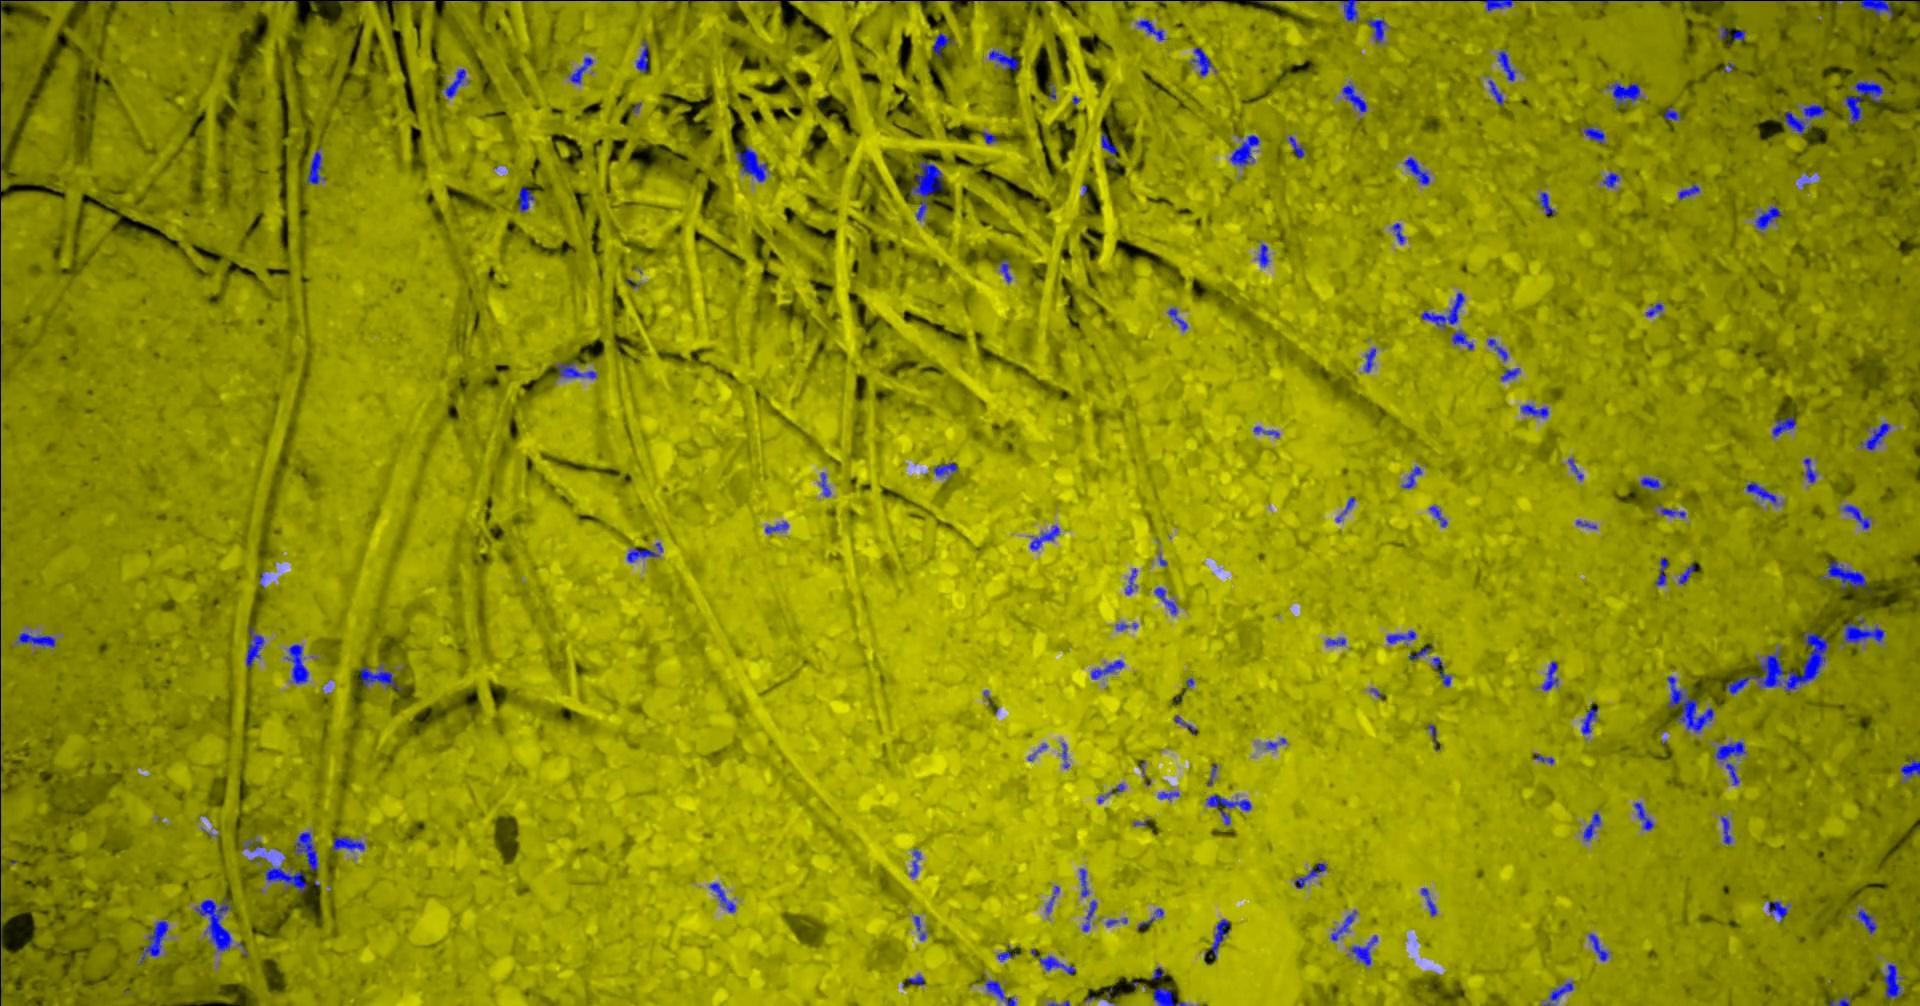ant: (1666, 674, 1713, 732), (194, 897, 231, 951), (909, 160, 942, 220), (1843, 80, 1883, 124), (1420, 292, 1464, 328), (1206, 794, 1251, 824), (1716, 741, 1746, 784), (1780, 104, 1825, 133), (138, 920, 168, 964), (735, 145, 768, 180), (1827, 560, 1867, 589), (1843, 617, 1884, 644), (359, 664, 401, 691), (264, 865, 306, 890), (284, 643, 309, 683), (1229, 133, 1258, 166), (295, 831, 317, 870), (1349, 935, 1377, 965), (439, 69, 469, 97), (1860, 422, 1890, 450), (709, 882, 735, 912), (1330, 909, 1356, 940), (1294, 862, 1326, 888), (245, 625, 264, 667), (1029, 525, 1059, 550), (1037, 955, 1076, 976), (984, 979, 1015, 1005), (1542, 981, 1573, 1005), (1608, 83, 1641, 105), (1743, 481, 1777, 504), (1881, 963, 1901, 998), (1342, 83, 1368, 111), (1211, 920, 1229, 959), (1403, 158, 1429, 184), (557, 361, 596, 379), (626, 542, 662, 561), (1152, 986, 1187, 1005), (1090, 659, 1123, 680), (988, 50, 1018, 71), (1755, 205, 1782, 229), (1843, 504, 1869, 528), (306, 149, 324, 184), (569, 56, 592, 83), (1857, 0, 1893, 17), (15, 631, 55, 647), (1135, 19, 1164, 39), (931, 32, 952, 58), (1154, 587, 1176, 614), (1191, 47, 1211, 75), (1633, 801, 1653, 829), (1497, 50, 1515, 81), (331, 835, 364, 851), (1097, 782, 1124, 803), (1137, 908, 1163, 929), (1589, 934, 1608, 962), (1581, 702, 1597, 734), (1771, 415, 1796, 437), (1432, 657, 1450, 686), (1335, 495, 1355, 521), (1366, 17, 1385, 42), (1583, 810, 1600, 840), (1420, 887, 1436, 916), (517, 185, 535, 212), (1451, 329, 1473, 351), (1167, 307, 1187, 330), (1537, 191, 1556, 215), (1857, 909, 1876, 934), (1578, 126, 1604, 144), (1542, 661, 1557, 690), (1487, 79, 1503, 105), (1487, 338, 1507, 359), (1401, 466, 1421, 488), (1173, 715, 1196, 734), (1900, 757, 1919, 780), (1768, 901, 1790, 920), (1100, 133, 1117, 158), (1082, 901, 1096, 931), (635, 39, 648, 72), (1429, 506, 1448, 527), (1385, 630, 1415, 644), (1655, 558, 1669, 586), (1045, 885, 1059, 913), (1340, 0, 1357, 22), (1288, 135, 1304, 158), (1677, 563, 1695, 583), (1677, 183, 1699, 199), (1567, 457, 1583, 479), (1520, 404, 1548, 417), (1657, 504, 1685, 517), (1124, 567, 1137, 594), (1719, 815, 1732, 843), (933, 462, 957, 476), (1481, 0, 1514, 10), (1363, 347, 1375, 372), (1803, 457, 1816, 483), (1408, 647, 1431, 661), (996, 944, 1013, 962), (764, 521, 789, 533), (1253, 426, 1279, 437), (1641, 476, 1663, 489), (1390, 222, 1404, 243), (909, 848, 919, 876), (1265, 737, 1286, 749), (1644, 302, 1663, 316), (1500, 367, 1519, 381), (1257, 243, 1269, 265), (819, 473, 830, 495), (1603, 171, 1619, 187), (1079, 868, 1088, 895), (1001, 259, 1011, 282), (1663, 107, 1680, 119), (905, 974, 924, 984), (1829, 996, 1850, 1005), (1324, 636, 1345, 645), (982, 131, 996, 144), (1157, 791, 1178, 799), (1732, 30, 1745, 39)
